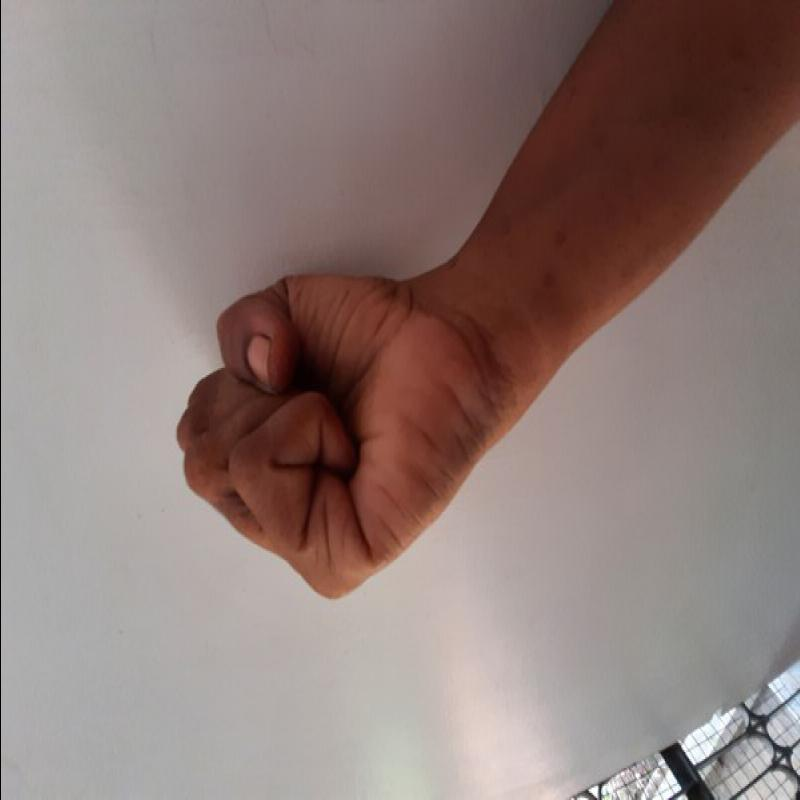Mushti: (149, 266, 495, 604)
